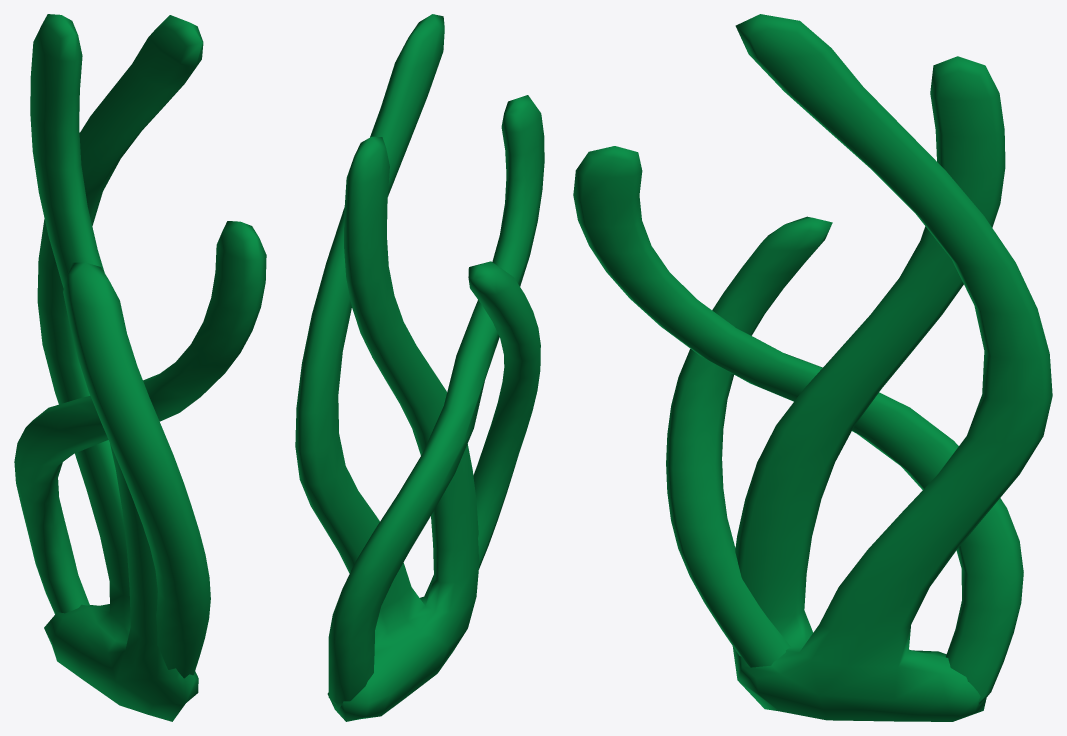
The model's file is Seaweed - Copy.fbx.
3 views of the same model, side by side, from view 1: azimuth 30°, elevation 25°; view 2: azimuth 150°, elevation 25°; view 3: azimuth 270°, elevation 25° (orthographic). The views are drawn at different scales.
Parts seen in each view (by area): view 1: pCube2, pCube4, pCube3; view 2: pCube2, pCube3, pCube4; view 3: pCube2, pCube3, pCube4.
Boxes of the visible parts, box(x1,y1,x2,y2) form: pCube2: box(30, 14, 203, 721); pCube4: box(63, 262, 210, 678); pCube3: box(14, 221, 266, 614); pCube2: box(295, 14, 479, 721); pCube3: box(328, 95, 544, 708); pCube4: box(424, 261, 540, 597); pCube2: box(732, 14, 1052, 721); pCube3: box(573, 146, 1023, 705); pCube4: box(666, 216, 832, 713).
Bounding box in the file's own units: 1.98 × 11.1 × 6.77.
